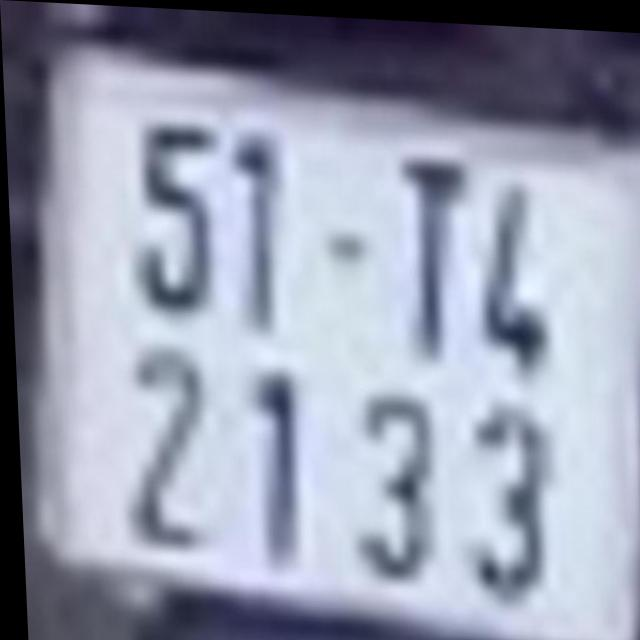1: (232, 349, 310, 563), (227, 124, 282, 327)
2: (124, 332, 212, 555)
3: (339, 367, 442, 585), (456, 384, 545, 590)
4: (471, 159, 551, 376)
5: (128, 114, 225, 315)
T: (388, 137, 471, 363)
